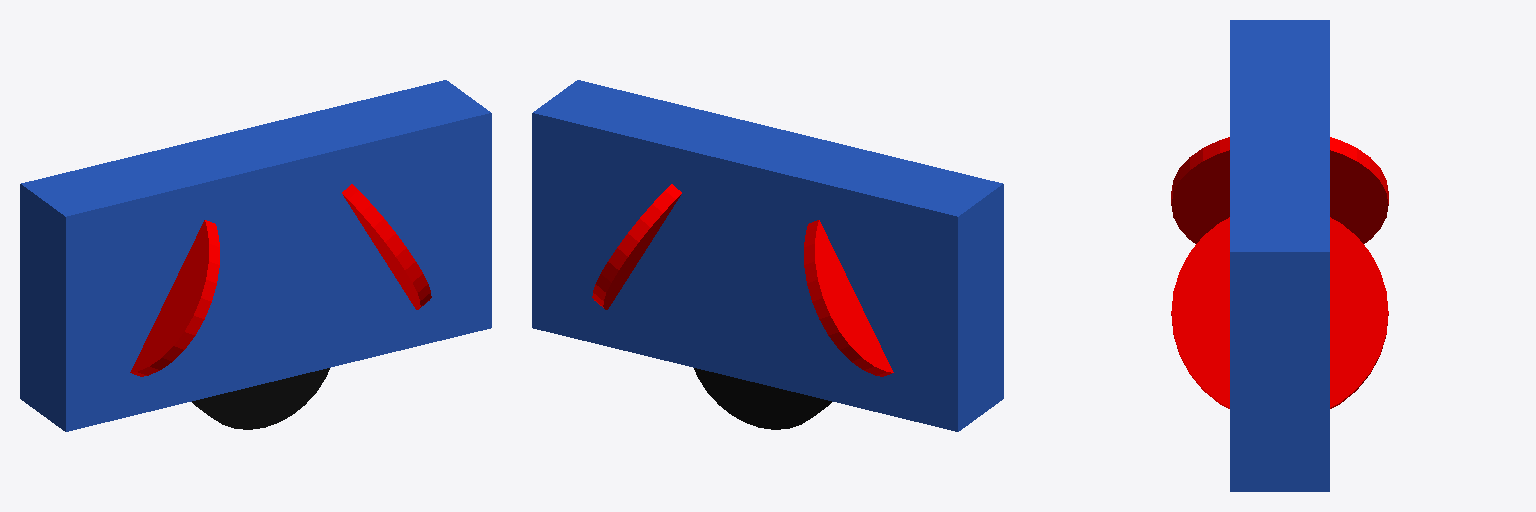
The robot description file, URDF, robot "car":
<?xml version="1.0"?>
<robot name="car">
  <link name="world"/>

  <material name="blue">
    <color rgba="0.2 0.4 0.8 1.0"/> 
  </material>
  
  <material name="black">
    <color rgba="0.1 0.1 0.1 1.0"/>
  </material>

  <material name="red">
    <color rgba="1.0 0.0 0.0 1.0"/>
  </material>

  <link name="base_link">
    <inertial>
      <mass value="0.3"/> 
      <inertia 
        ixx="0.00154"  
        iyy="0.00364"  
        izz="0.00385" 
      />
    </inertial>

    <visual>
      <origin xyz="0 0 0" rpy="0 0 0"/>
      <geometry>
        <box size="0.20146 0.037 0.0974"/> 
      </geometry>
      <material name="blue"/>
    </visual>

    <collision>
      <origin xyz="0 0 0" rpy="0 0 0"/>
      <geometry>
        <box size="0.20146 0.037 0.0974"/>
      </geometry>
    </collision>
  </link>

  <link name="wheel">
    <inertial>
      <mass value="0.02"/>
      <inertia
        ixx="0.000006125" 
        iyy="0.000006125"
        izz="0.00001225"  
      />
    </inertial>
    
    <visual>
      <origin xyz="0 0 0" rpy="1.5708 0 0"/> 
      <geometry>
        <cylinder radius="0.035" length="0.0135"/>
      </geometry>
      <material name="black"/>
    </visual>
    
    <collision>
      <origin xyz="0 0 0" rpy="1.5708 0 0"/>
      <geometry>
        <cylinder radius="0.035" length="0.0135"/>
      </geometry>
    </collision>
  </link>

  <link name="flywheel1">
    <inertial>
        <mass value="0.167"/>
        <inertia
          ixx="0.0001336"
          iyy="0.0001336"
          izz="0.0001336"
        />
    </inertial>
    <visual>
        <origin xyz="0 0 0" rpy="1.0472 0 1.5708"/> <!-- 30°绕y轴 + 90°绕z轴 -->
        <geometry>
            <cylinder radius="0.04" length="0.006"/>
        </geometry>
        <material name="red"/>
    </visual>

    <collision>
        <origin xyz="0 0 0" rpy="1.0472 0 1.5708"/>
        <geometry>
            <cylinder radius="0.04" length="0.006"/>
        </geometry>
    </collision>
  </link>

  <link name="flywheel2">
    <inertial>
        <mass value="0.167"/>
        <inertia
          ixx="0.0001336"
          iyy="0.0001336"
          izz="0.0001336"
        />
    </inertial>
    <visual>
        <origin xyz="0 0 0" rpy="-1.0472 0 1.5708"/> <!-- 30°绕y轴 + 90°绕z轴 -->
        <geometry>
            <cylinder radius="0.04" length="0.006"/>
        </geometry>
        <material name="red"/>
    </visual>

    <collision>
        <origin xyz="0 0 0" rpy="-1.0472 0 1.5708"/>
        <geometry>
            <cylinder radius="0.04" length="0.006"/>
        </geometry>
    </collision>
  </link>

  <joint name="base_joint" type="fixed">
    <parent link="world"/>
    <child link="base_link"/>
    <origin xyz="0 0 0.04" rpy="0 0 0"/>
  </joint>

  <joint name="wheel_joint" type="continuous">
    <parent link="base_link"/>
    <child link="wheel"/>
    <origin xyz="0 0 -0.04" rpy="0 0 0"/> 
    <axis xyz="0 1 0"/>  
  </joint>

  <joint name="flywheel1_joint" type="continuous">
    <parent link="base_link"/>
    <child link="flywheel1"/>
    <origin xyz="0.05 0 0" rpy="0 0 0"/> 
    <axis xyz="0.866 0 0.5"/> <!-- 旋转轴沿z轴 -->
  </joint>

  <joint name="flywheel2_joint" type="continuous">
    <parent link="base_link"/>
    <child link="flywheel2"/>
    <origin xyz="-0.05 0 0" rpy="0 0 0"/> 
    <axis xyz="0.866 0 -0.5"/> <!-- 旋转轴沿z轴 -->
  </joint>
</robot>

--- What the picture shows (computed from the rendered views, not written in the file) ---
Views: 3 orthographic renders of the robot side by side, from view 1: azimuth 30°, elevation 25°; view 2: azimuth 150°, elevation 25°; view 3: azimuth 270°, elevation 25°.
Model car with 5 links and 4 joints (3 continuous, 1 fixed), rooted at world, posed every joint at zero.
Visible links, largest first — view 1: base_link, flywheel2, wheel, flywheel1; view 2: base_link, flywheel2, wheel, flywheel1; view 3: base_link, flywheel1, flywheel2.
Boxes of the visible links, x1,y1,x2,y2 form: base_link: [20, 80, 491, 431]; flywheel2: [130, 220, 219, 376]; wheel: [192, 368, 329, 429]; flywheel1: [342, 184, 431, 309]; base_link: [532, 80, 1003, 431]; flywheel2: [804, 220, 893, 376]; wheel: [694, 368, 831, 429]; flywheel1: [592, 184, 681, 309]; base_link: [1230, 20, 1329, 491]; flywheel1: [1171, 217, 1388, 408]; flywheel2: [1171, 137, 1388, 243].
Size in the robot's own frame: 0.2015 by 0.08 by 0.1237 metres.
Geometry: primitives only (box / cylinder / sphere), no mesh files.